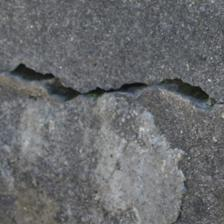Crack: (12, 60, 213, 115)
